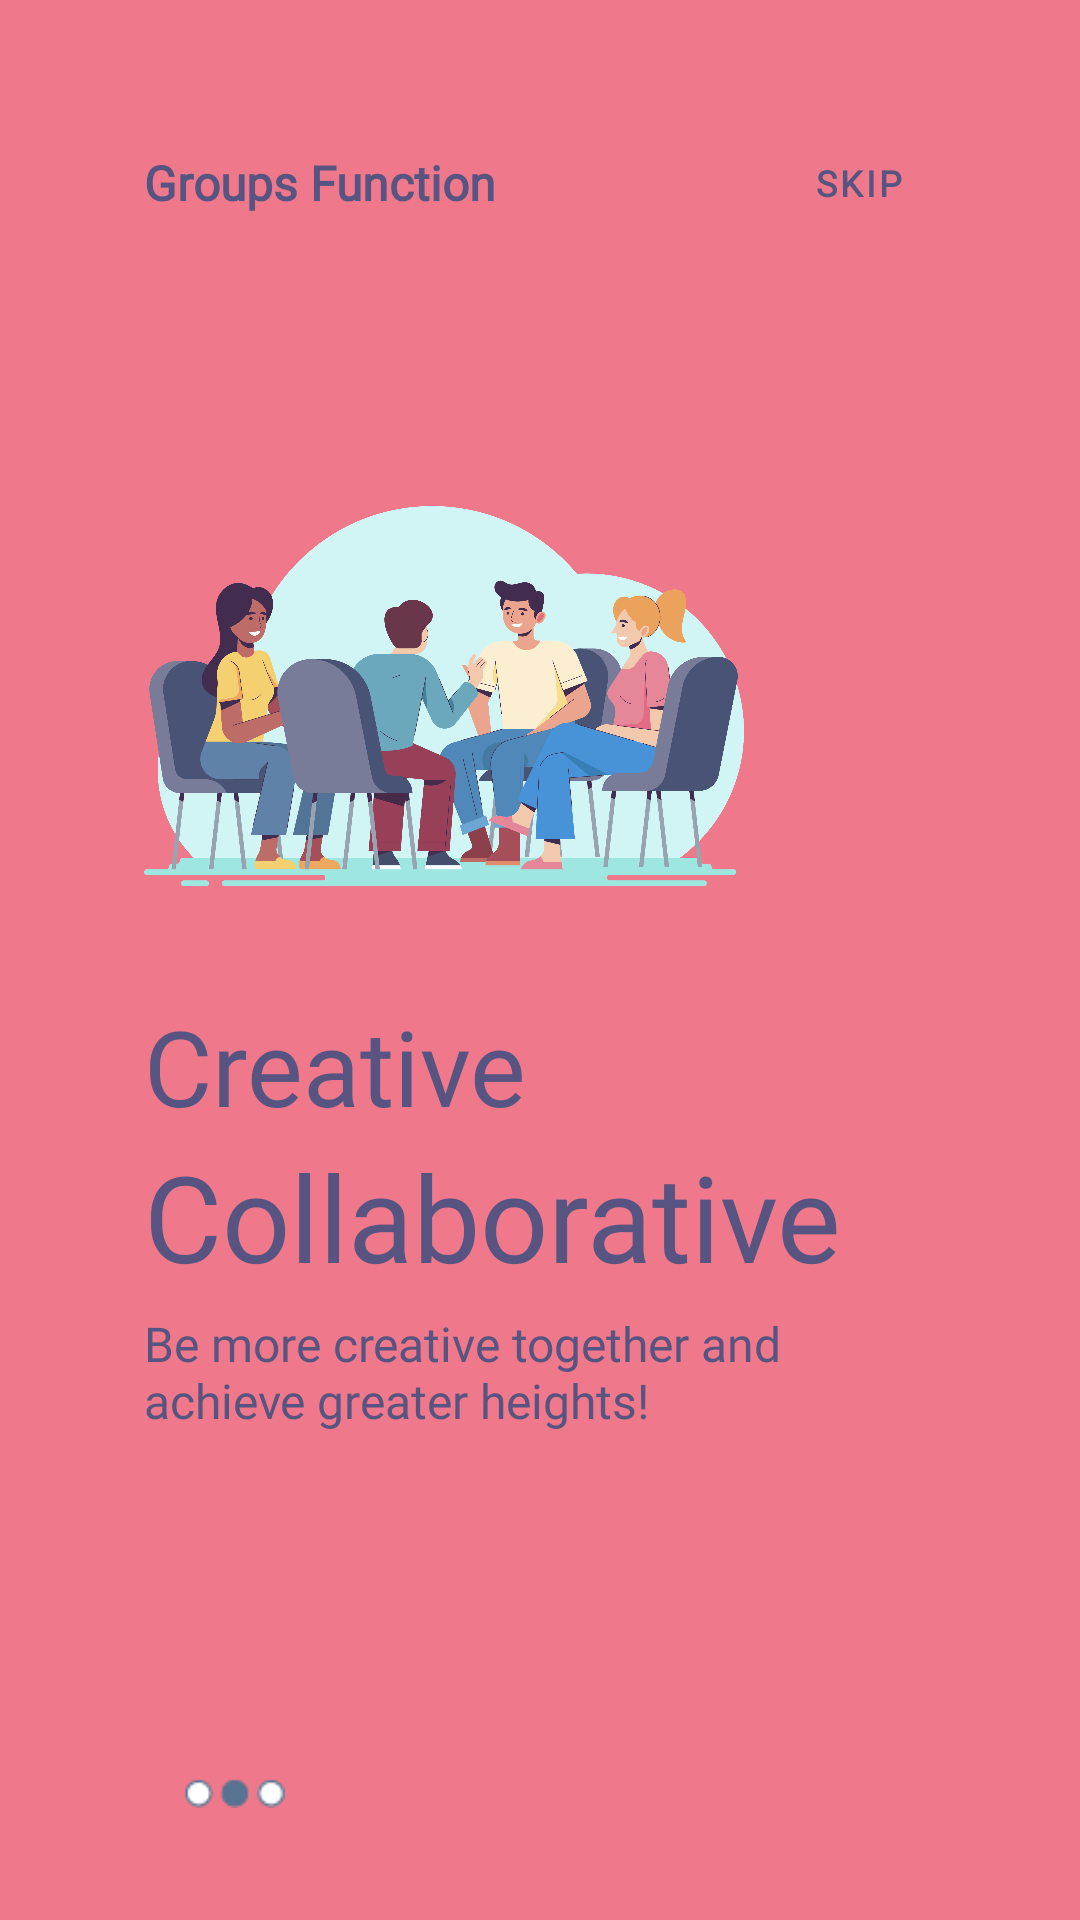

Icons on this 1080x1920 Android screen, each with its box as (x1=x1, y1=y1, x2=x2, y2=y2):
tab: (x1=185, y1=1780, x2=285, y2=1808)
